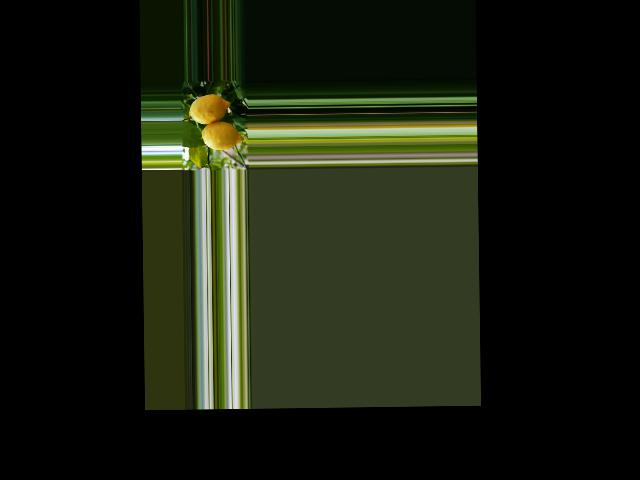lemon: (198, 119, 242, 153)
